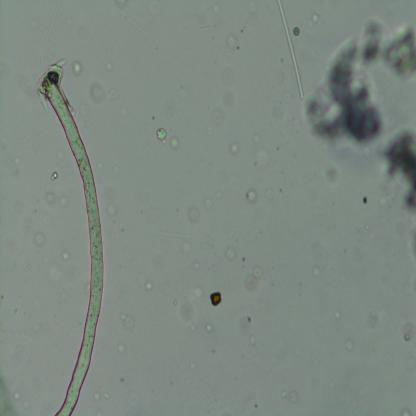Background material: (304, 13, 416, 148), (380, 125, 416, 214), (174, 278, 212, 319), (1, 364, 20, 416), (312, 249, 334, 289), (273, 385, 303, 409), (84, 75, 108, 104), (245, 268, 265, 291), (360, 312, 383, 332), (118, 309, 136, 330), (103, 200, 121, 220), (341, 338, 362, 355), (209, 114, 228, 132), (326, 161, 342, 182), (40, 189, 57, 208), (208, 289, 224, 309), (153, 125, 169, 144), (110, 340, 129, 356), (223, 86, 236, 109), (201, 195, 217, 213), (50, 266, 66, 284), (401, 323, 416, 342), (187, 204, 201, 224), (30, 232, 46, 249), (256, 149, 270, 168), (202, 316, 214, 337), (226, 35, 240, 52), (307, 13, 319, 30), (245, 188, 256, 206), (26, 17, 39, 32), (60, 191, 70, 210), (330, 304, 340, 323), (72, 62, 84, 77), (103, 60, 115, 73), (48, 170, 58, 184), (170, 136, 180, 150), (143, 280, 154, 292), (226, 248, 236, 260), (61, 250, 71, 262), (230, 142, 240, 154), (13, 154, 20, 169), (361, 193, 369, 204), (292, 26, 300, 36)
Glass filter fibre: (278, 0, 304, 99), (39, 0, 61, 64), (158, 230, 191, 241)
Microfibre: (38, 60, 106, 416)
